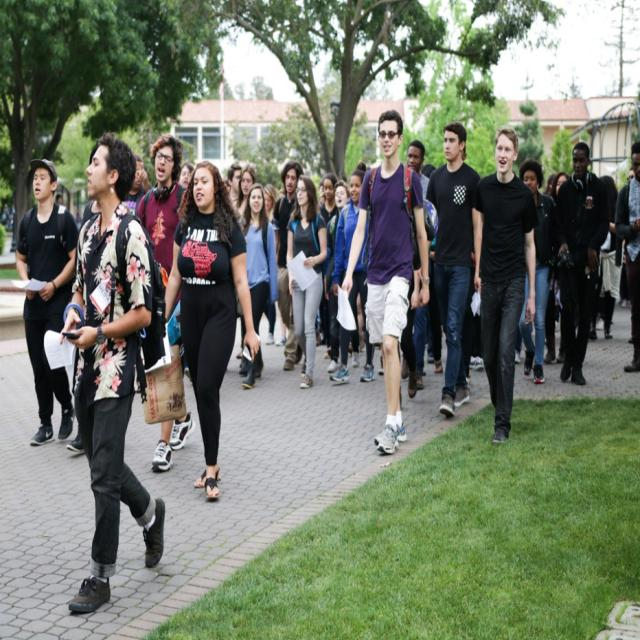body: (55, 132, 167, 619), (165, 158, 261, 504), (338, 107, 432, 460), (470, 124, 538, 450), (136, 133, 197, 475), (13, 154, 80, 451), (424, 118, 486, 420), (554, 138, 612, 385), (327, 160, 377, 386), (516, 157, 559, 387), (286, 175, 328, 390), (239, 182, 279, 394), (400, 138, 430, 390), (272, 159, 306, 372), (398, 242, 442, 402), (326, 180, 361, 374), (540, 166, 572, 366), (614, 139, 639, 376), (231, 164, 257, 360), (594, 172, 624, 340), (78, 136, 106, 238), (65, 375, 93, 457), (121, 152, 152, 217), (467, 282, 488, 377), (345, 289, 366, 369), (318, 172, 340, 226), (615, 252, 634, 308), (223, 161, 245, 209), (312, 304, 331, 350), (306, 178, 328, 216), (262, 181, 280, 223), (272, 309, 290, 351), (178, 158, 197, 189), (235, 312, 247, 361), (512, 323, 526, 364), (374, 354, 388, 377), (419, 159, 436, 177), (624, 164, 635, 186)
